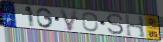1: (24, 6, 36, 27)
G: (36, 7, 55, 29)
H: (124, 13, 147, 39)
O: (81, 12, 100, 33)
S: (106, 13, 126, 36)
V: (58, 9, 79, 32)
